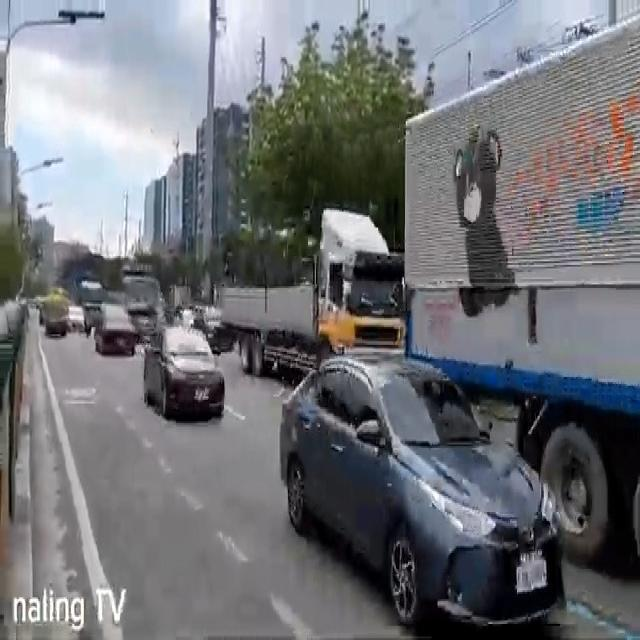car: (278, 352, 568, 626), (144, 322, 225, 430)
truck: (404, 17, 640, 567), (221, 206, 406, 378)
